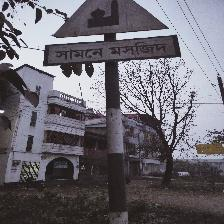Mosque in front: (47, 0, 178, 72)
